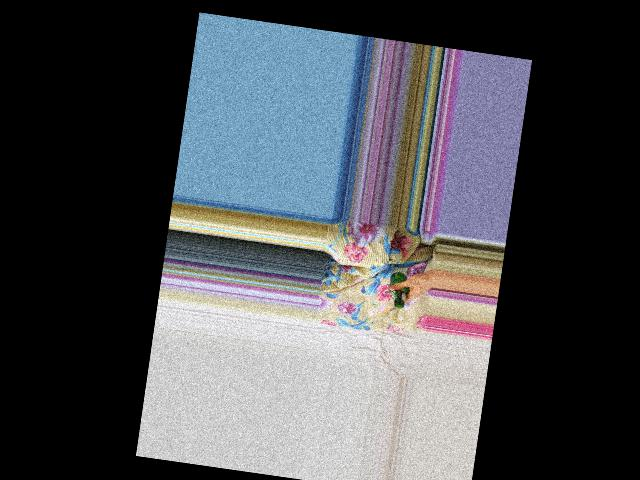beer: (386, 271, 412, 308)
